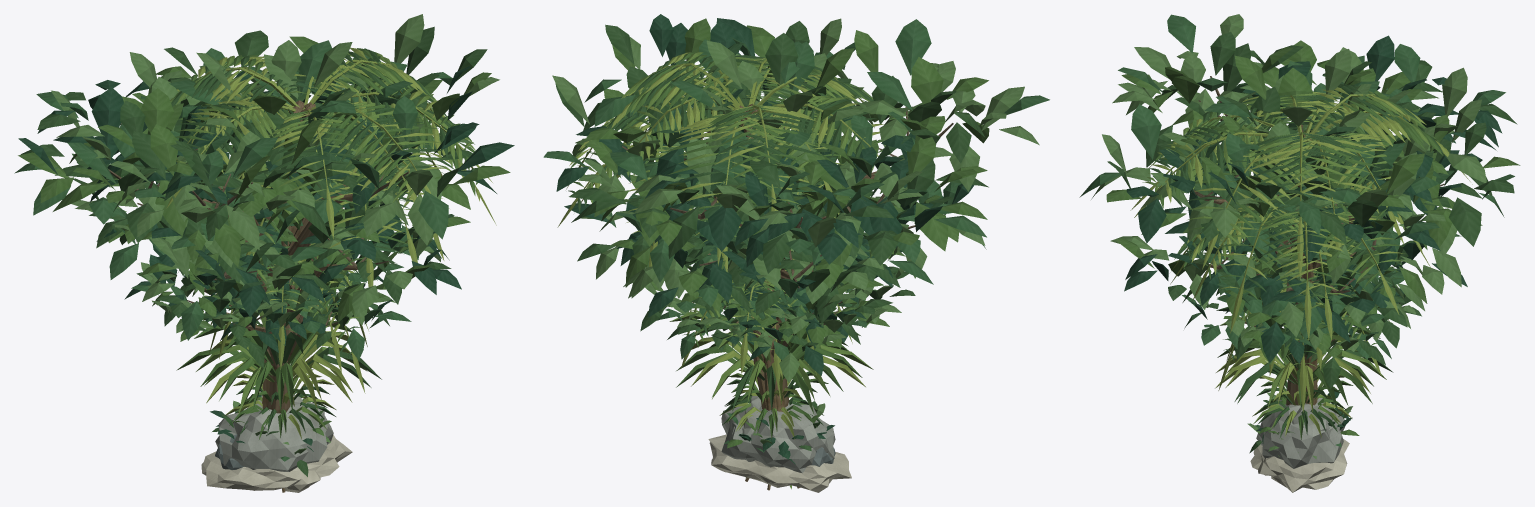
Rendered from coast_ecosystem.glb.
3 views of the same model, side by side, from view 1: azimuth 30°, elevation 25°; view 2: azimuth 150°, elevation 25°; view 3: azimuth 270°, elevation 25° (orthographic). The views are drawn at different scales.
Parts seen in each view (by area): view 1: canopy_umbrella_LOD0, canopy_irregular_LOD0, palm_tall_LOD0, coastal_broadleaf_LOD0, pandanus_LOD0, rock_boulder_LOD0, palm_leaning_LOD0, rock_slab_LOD0, pandanus_young_LOD0, palm_young_LOD0, shrub_tall_LOD0, rock_cluster_LOD0; view 2: canopy_umbrella_LOD0, canopy_irregular_LOD0, palm_tall_LOD0, coastal_broadleaf_LOD0, pandanus_LOD0, rock_boulder_LOD0, rock_slab_LOD0, palm_leaning_LOD0, pandanus_young_LOD0, palm_young_LOD0, shrub_tall_LOD0, rock_cluster_LOD0; view 3: canopy_umbrella_LOD0, canopy_irregular_LOD0, palm_tall_LOD0, palm_leaning_LOD0, coastal_broadleaf_LOD0, pandanus_LOD0, rock_boulder_LOD0, pandanus_young_LOD0, rock_slab_LOD0, palm_young_LOD0, rock_cluster_LOD0, shrub_tall_LOD0.
Part boxes in pixels (x1=…): canopy_umbrella_LOD0: x1=14, y1=14, x2=514, y2=413; canopy_irregular_LOD0: x1=71, y1=123, x2=470, y2=340; palm_tall_LOD0: x1=166, y1=47, x2=492, y2=408; coastal_broadleaf_LOD0: x1=124, y1=244, x2=411, y2=368; pandanus_LOD0: x1=176, y1=288, x2=381, y2=492; rock_boulder_LOD0: x1=215, y1=400, x2=333, y2=471; palm_leaning_LOD0: x1=238, y1=95, x2=496, y2=332; rock_slab_LOD0: x1=201, y1=435, x2=352, y2=490; pandanus_young_LOD0: x1=225, y1=368, x2=336, y2=439; palm_young_LOD0: x1=208, y1=243, x2=368, y2=393; shrub_tall_LOD0: x1=210, y1=395, x2=331, y2=476; rock_cluster_LOD0: x1=215, y1=394, x2=320, y2=492; canopy_umbrella_LOD0: x1=543, y1=14, x2=1049, y2=407; canopy_irregular_LOD0: x1=564, y1=135, x2=986, y2=323; palm_tall_LOD0: x1=590, y1=51, x2=898, y2=411; coastal_broadleaf_LOD0: x1=640, y1=253, x2=915, y2=382; pandanus_LOD0: x1=669, y1=302, x2=873, y2=490; rock_boulder_LOD0: x1=721, y1=403, x2=835, y2=473; rock_slab_LOD0: x1=708, y1=434, x2=851, y2=492; palm_leaning_LOD0: x1=557, y1=97, x2=835, y2=409; pandanus_young_LOD0: x1=719, y1=364, x2=828, y2=440; palm_young_LOD0: x1=681, y1=258, x2=852, y2=410; shrub_tall_LOD0: x1=724, y1=401, x2=834, y2=464; rock_cluster_LOD0: x1=728, y1=396, x2=835, y2=466; canopy_umbrella_LOD0: x1=1079, y1=14, x2=1520, y2=405; canopy_irregular_LOD0: x1=1110, y1=135, x2=1482, y2=363; palm_tall_LOD0: x1=1130, y1=84, x2=1472, y2=279; palm_leaning_LOD0: x1=1170, y1=174, x2=1431, y2=405; coastal_broadleaf_LOD0: x1=1182, y1=233, x2=1421, y2=388; pandanus_LOD0: x1=1215, y1=306, x2=1393, y2=412; rock_boulder_LOD0: x1=1256, y1=389, x2=1345, y2=468; pandanus_young_LOD0: x1=1252, y1=363, x2=1353, y2=439; rock_slab_LOD0: x1=1253, y1=439, x2=1349, y2=492; palm_young_LOD0: x1=1218, y1=256, x2=1389, y2=412; rock_cluster_LOD0: x1=1250, y1=403, x2=1340, y2=475; shrub_tall_LOD0: x1=1247, y1=390, x2=1359, y2=458.
Size of what is drawn, in the model's own units: 10.56 by 9.68 by 9.76.
Materials: 1 (1 with a texture image).
